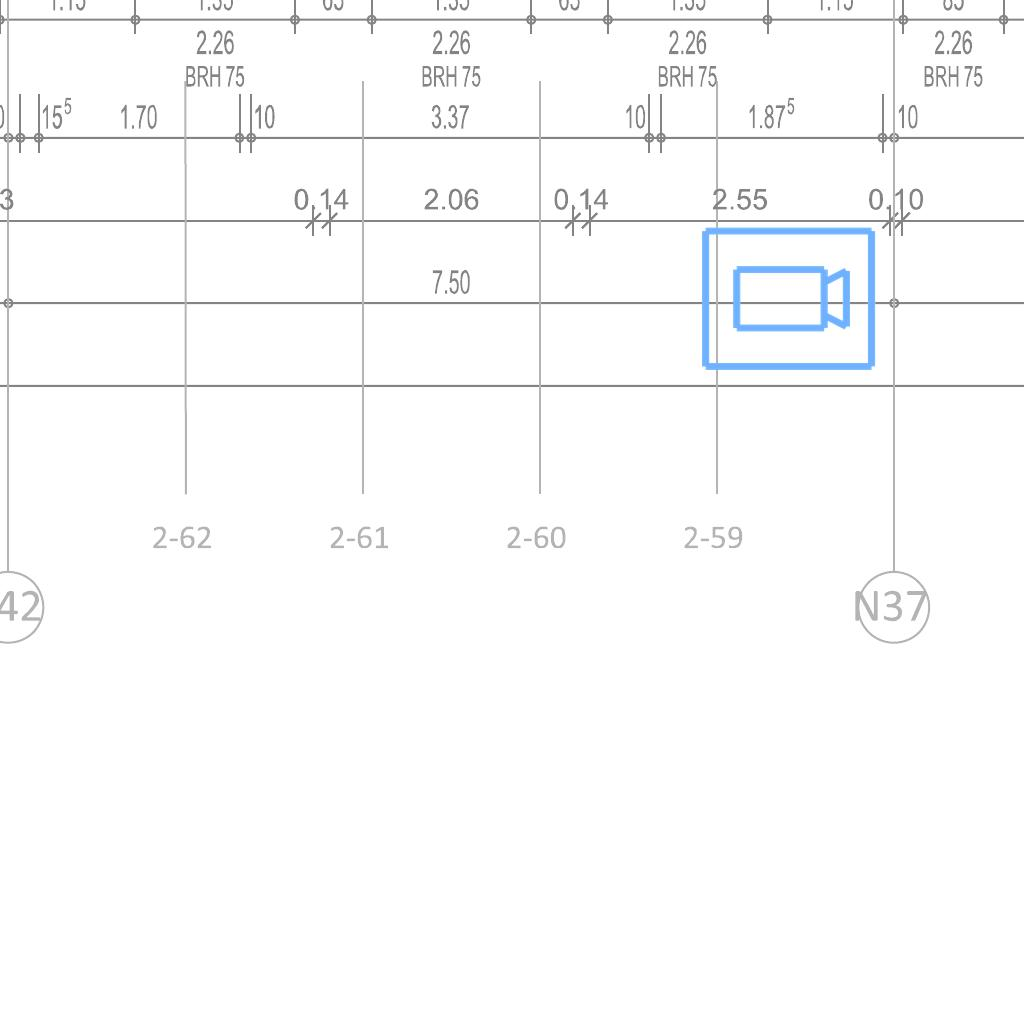KFO_Kamera_mit_Festobjektiv: (697, 223, 879, 377)
